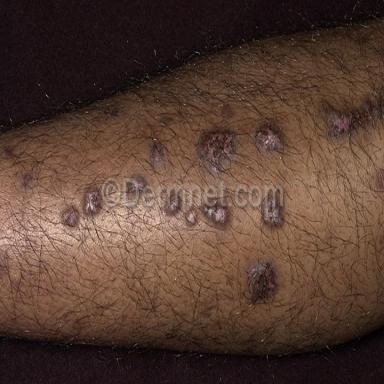lichen: (319, 96, 384, 137), (197, 130, 235, 174), (245, 260, 277, 303), (254, 124, 283, 151), (83, 185, 101, 215), (262, 206, 282, 227), (204, 207, 228, 224), (149, 140, 164, 166), (62, 206, 79, 227), (185, 206, 197, 226), (165, 205, 178, 215)
